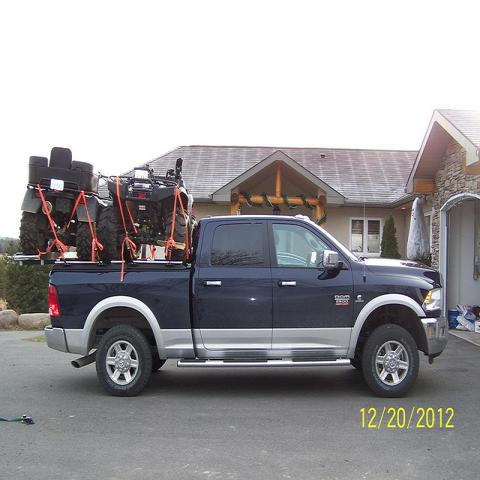truck: (45, 216, 448, 401)
